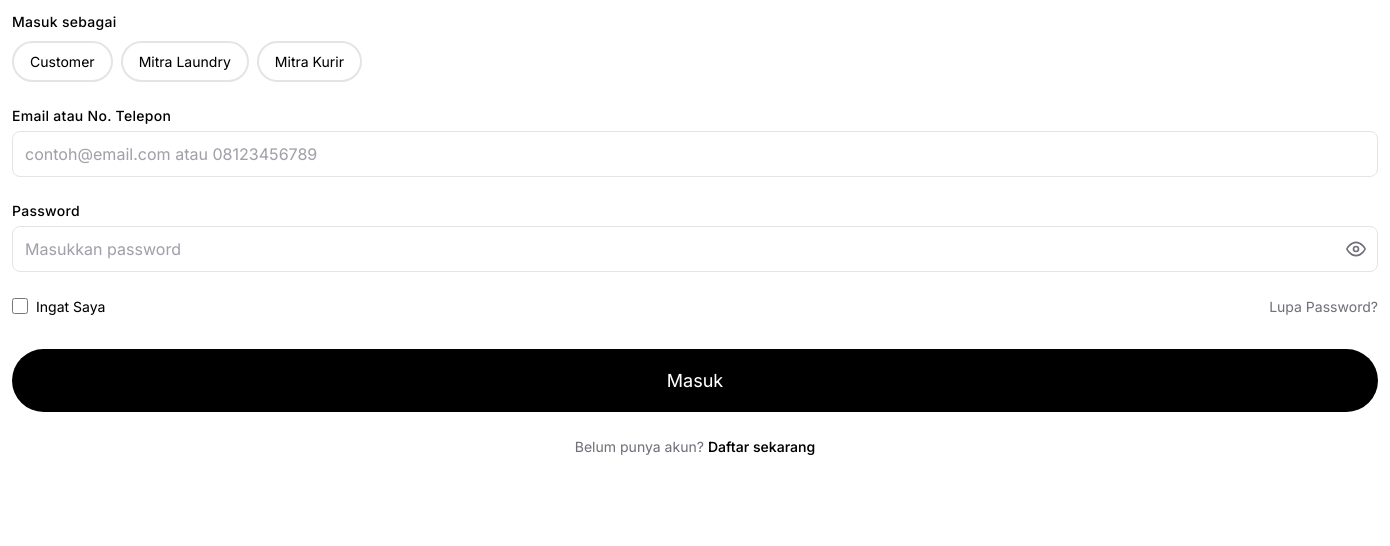
Test: LoginForm › form validation › shows error when submitting without filling fields
This screenshot has width=1390, height=546.
Click the button "Masuk".
click(695, 380)  # box [12, 349, 1378, 412]
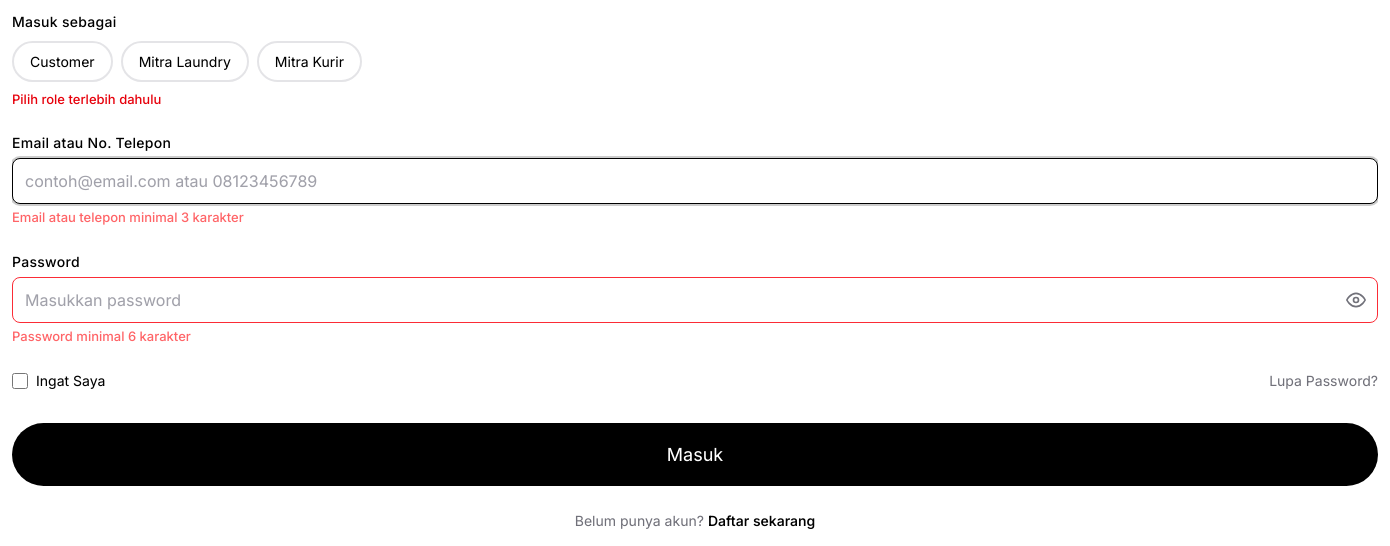
Expected: the text "Email atau telepon minimal 3 karakter" is shown, [12, 209, 244, 225]
